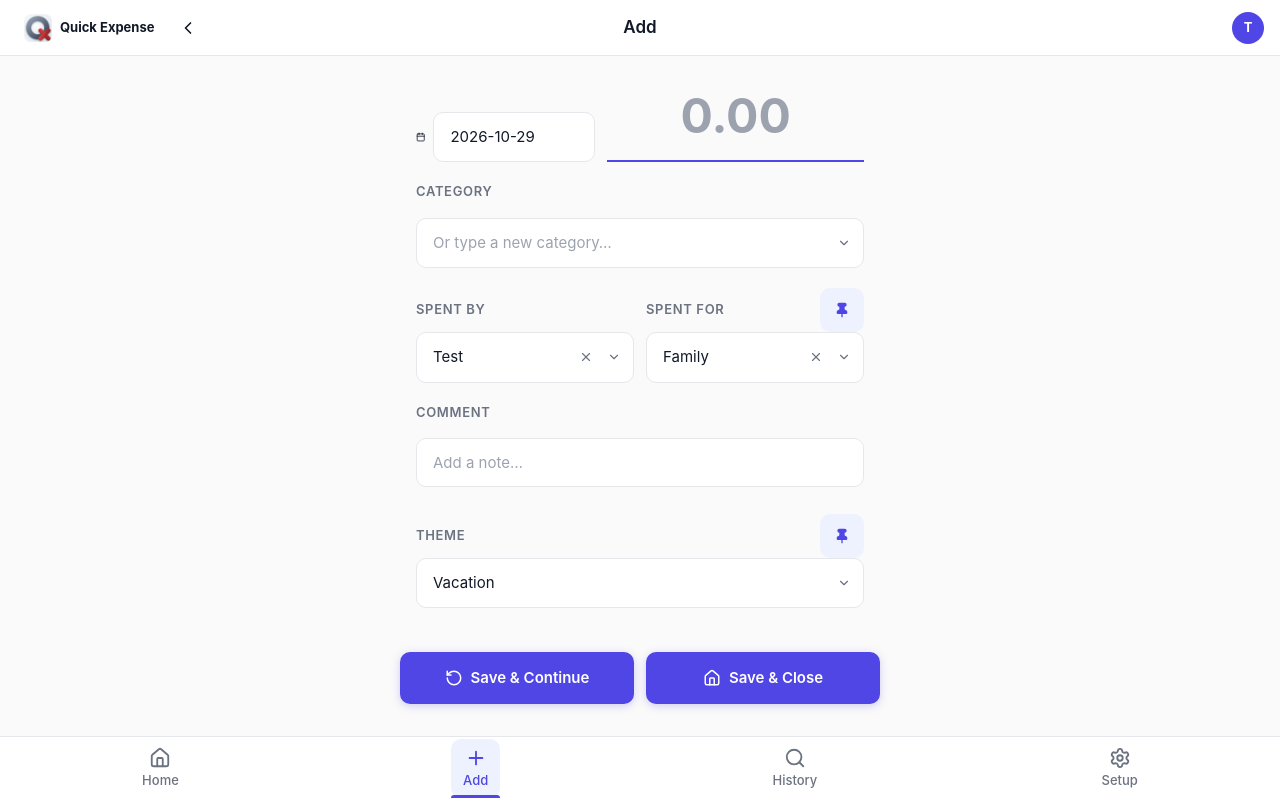
Test: AddExpensePage — shared field defaults › offers every distinct custom value when a default is populated
expect the field named "Amount in" is shown: met, box [607,72,864,162]
Click the 4th button named "Show suggestions": click(844, 583) [832,571,856,595]
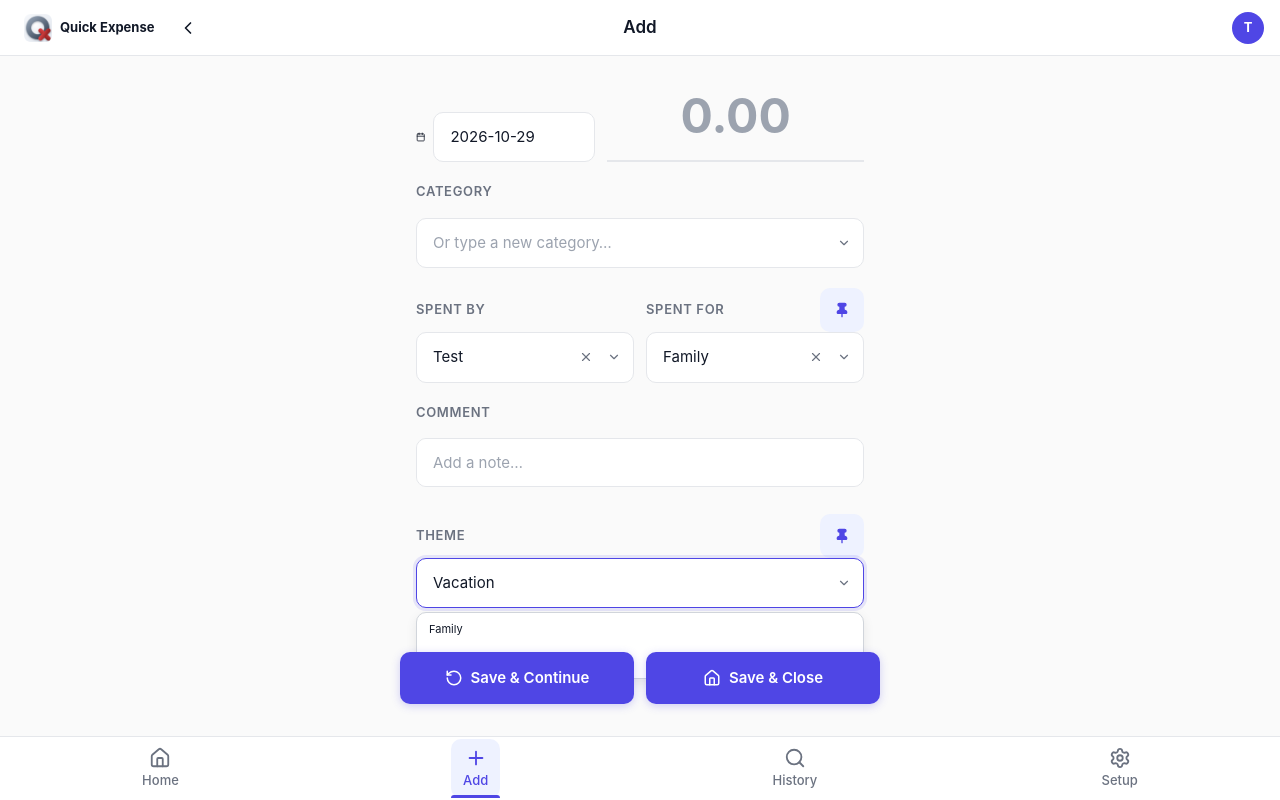
expect the dropdown labelled "Theme" holds "Vacation": met, box [416,558,864,608]
expect the options read "Family", "Vacation", in this order: met
Press the mouse on the option "Family": (446, 629) [429,622,463,636]
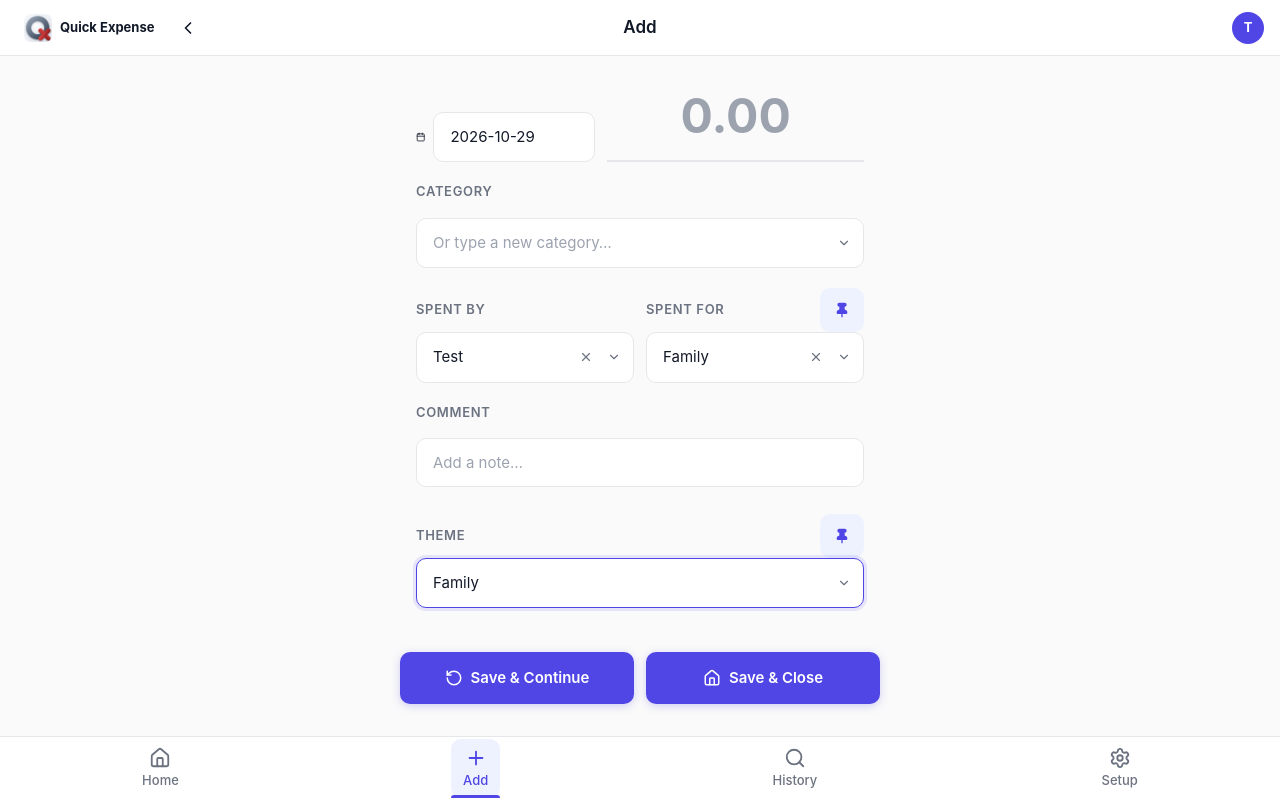
expect the dropdown labelled "Theme" holds "Family": met, box [416,558,864,608]
